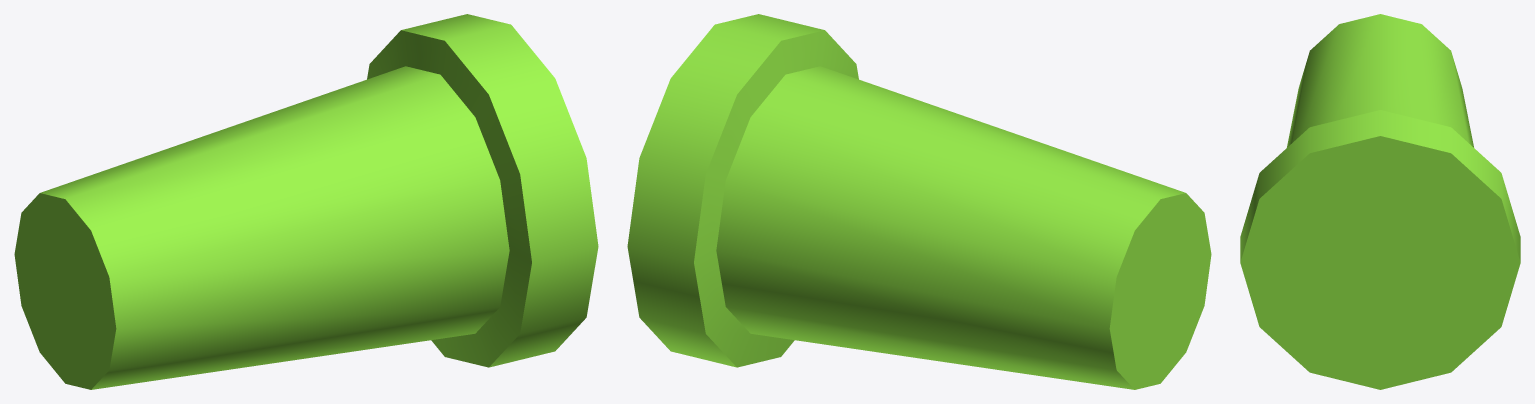
Rendered from SM_Connect.fbx.
The picture shows the model from 3 angles, left to right: view 1: azimuth 30°, elevation 25°; view 2: azimuth 150°, elevation 25°; view 3: azimuth 270°, elevation 25°; orthographic projection. The views are drawn at different scales.
Visible parts, largest first — view 1: SM_Connect; view 2: SM_Connect; view 3: SM_Connect.
Part boxes in pixels (left/top/right/bottom): SM_Connect: left=14, top=14, right=598, bottom=389; SM_Connect: left=627, top=14, right=1211, bottom=389; SM_Connect: left=1240, top=14, right=1520, bottom=389.
Size of the model in its own units: 1.74 by 1.18 by 1.18.
